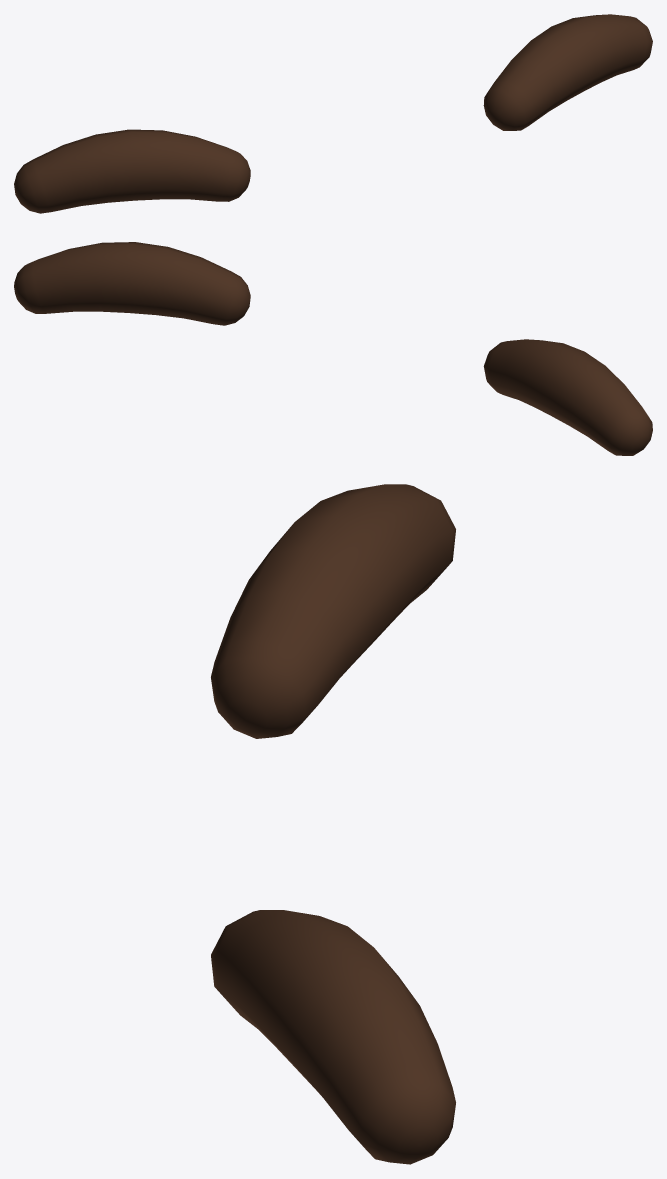
Rendered from char_brow.glb.
3 views of the same model, one above another, from view 1: azimuth 30°, elevation 25°; view 2: azimuth 150°, elevation 25°; view 3: azimuth 270°, elevation 25° (orthographic). The views are drawn at different scales.
Visible parts, largest first — view 1: BrowR, BrowL; view 2: BrowL, BrowR; view 3: BrowL, BrowR.
Part boxes in pixels (x1,y1,x2,y2): BrowR: (14, 129, 250, 213); BrowL: (483, 14, 652, 130); BrowL: (14, 242, 250, 325); BrowR: (483, 339, 652, 455); BrowL: (211, 910, 455, 1164); BrowR: (211, 484, 455, 738).
Size of the model in its own units: 0.2711 by 0.0301 by 0.0456.
